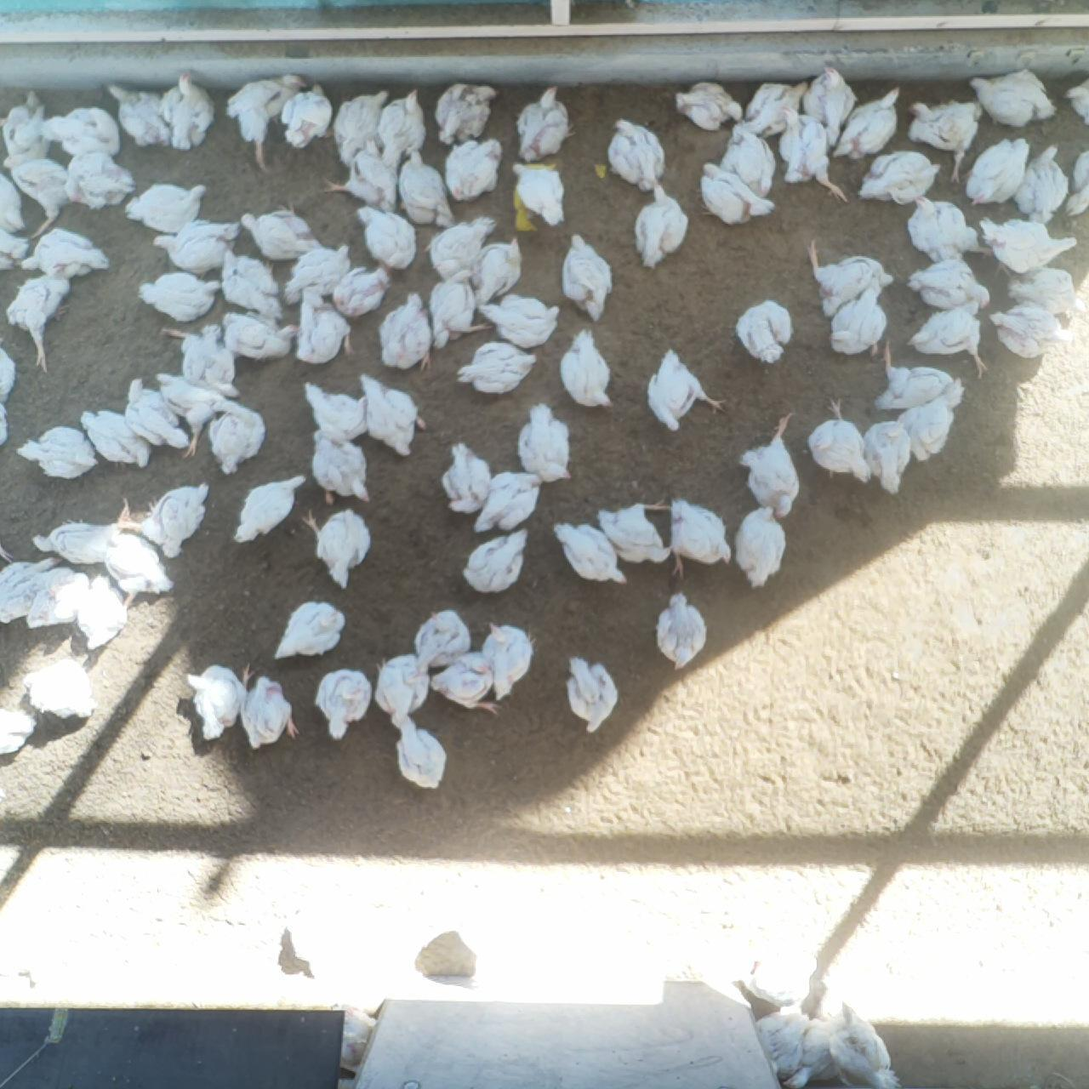chicken: (222, 73, 307, 175), (4, 261, 73, 373), (31, 495, 134, 570), (735, 410, 806, 518), (774, 102, 847, 207), (645, 344, 730, 434), (826, 995, 903, 1089), (902, 299, 990, 380), (903, 97, 982, 187), (110, 479, 213, 548), (152, 321, 241, 400), (101, 523, 180, 611), (979, 214, 1079, 282), (805, 241, 894, 317), (905, 192, 995, 267), (298, 503, 374, 590), (872, 340, 964, 411), (0, 151, 72, 241), (357, 371, 429, 458), (322, 132, 396, 216), (801, 398, 871, 485), (157, 372, 227, 458), (229, 472, 306, 550), (828, 84, 903, 164), (896, 376, 962, 463), (852, 149, 942, 212), (19, 226, 110, 288), (184, 664, 257, 741), (152, 218, 241, 281), (554, 233, 616, 323), (630, 180, 690, 272), (668, 496, 735, 578), (427, 265, 490, 352), (269, 597, 349, 665), (240, 201, 325, 265), (454, 336, 541, 398), (328, 84, 390, 171), (967, 67, 1055, 128), (986, 301, 1075, 361), (800, 64, 859, 154), (963, 134, 1031, 211), (156, 70, 219, 153), (732, 940, 816, 1002), (696, 161, 776, 226), (282, 241, 356, 311), (556, 325, 616, 411), (596, 495, 673, 562), (1010, 142, 1071, 226), (423, 215, 496, 285), (425, 649, 503, 714), (298, 380, 372, 448), (308, 430, 375, 505), (237, 674, 299, 755), (907, 254, 992, 313), (20, 655, 98, 719), (732, 79, 811, 142), (75, 571, 132, 658), (14, 424, 99, 482), (513, 87, 577, 164), (135, 268, 221, 325), (563, 656, 624, 736), (825, 282, 887, 360), (479, 620, 537, 703), (479, 294, 562, 352), (553, 520, 628, 584), (776, 1013, 839, 1089), (124, 178, 208, 235), (215, 249, 282, 320), (733, 505, 788, 591), (651, 591, 710, 671), (716, 125, 778, 201), (38, 107, 125, 161), (205, 399, 266, 476), (461, 529, 529, 598), (377, 293, 435, 373), (79, 408, 155, 469), (218, 308, 300, 364), (391, 711, 446, 794), (373, 651, 432, 728), (751, 1008, 814, 1080), (313, 668, 375, 741), (605, 119, 666, 193), (514, 403, 571, 482), (472, 469, 539, 536), (399, 148, 455, 228), (294, 293, 356, 365), (62, 151, 134, 213), (0, 86, 54, 168), (24, 565, 92, 630), (409, 607, 474, 675), (125, 378, 188, 448), (433, 78, 499, 144), (352, 203, 417, 270), (107, 83, 172, 150), (0, 552, 60, 624), (438, 441, 493, 518), (443, 135, 503, 205), (862, 418, 915, 497), (376, 88, 428, 168), (280, 909, 340, 977), (735, 299, 794, 368), (326, 1000, 376, 1078), (278, 78, 335, 146), (512, 161, 568, 228), (1003, 268, 1072, 322), (471, 236, 524, 306), (671, 80, 742, 131), (330, 265, 395, 320), (450, 903, 507, 961), (1061, 143, 1089, 220), (0, 704, 37, 756), (0, 173, 28, 237), (0, 226, 29, 277), (1062, 74, 1089, 128), (0, 343, 18, 404)
